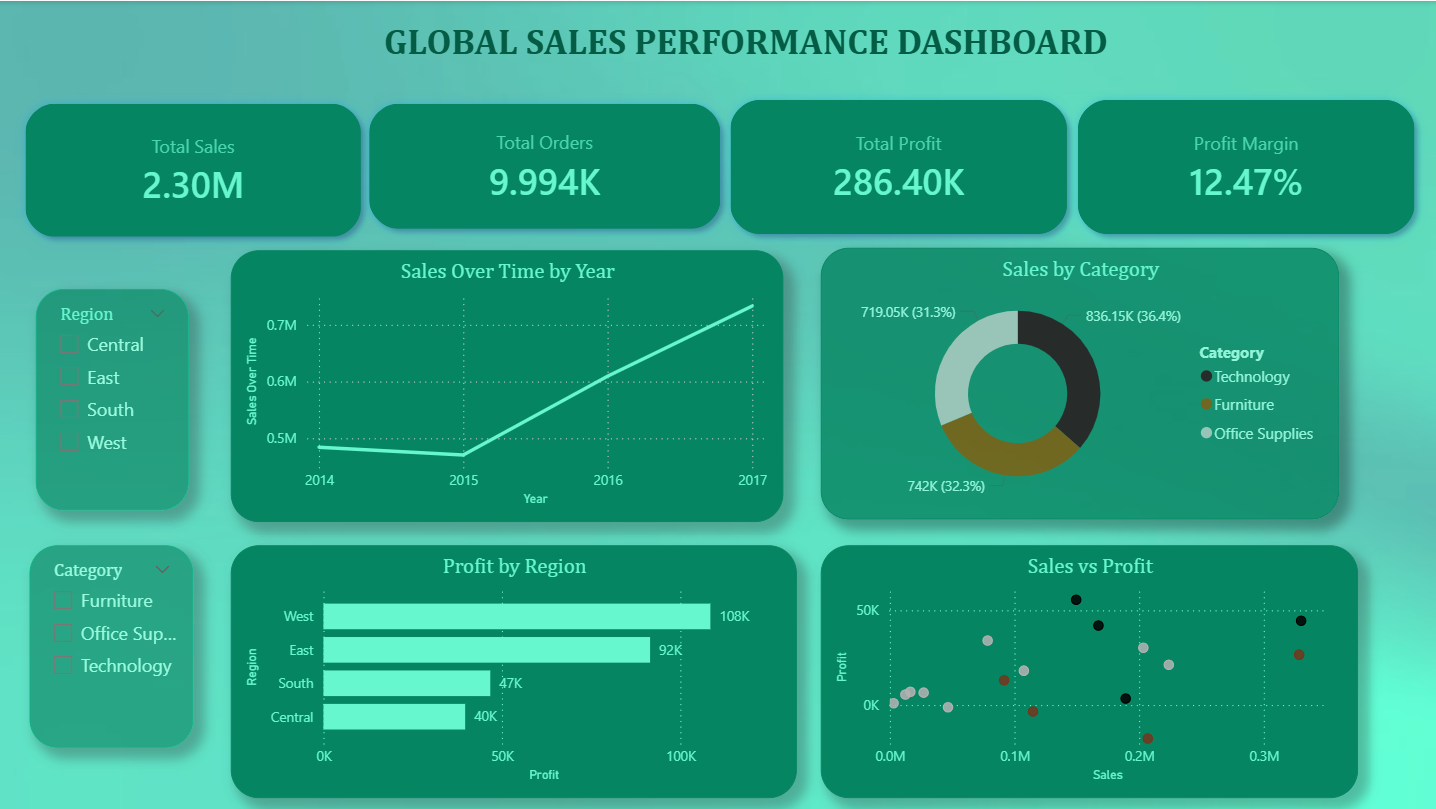

This screenshot's page, from the dashboard's own definition file:
{"tool":"powerbi","page":{"name":"Page 1","canvas":[1280,720],"ordinal":0},"visuals":[{"type":"cardVisual","fields":{"Data":["Sum(Sample - Superstore (2).Sales)"]},"box":[13.3,81.1,322.2,142.2],"z":0},{"type":"cardVisual","fields":{"Data":["CountNonNull(Sample - Superstore (2).Order ID)"]},"box":[318.9,81.1,336.7,135.6],"z":1000},{"type":"cardVisual","fields":{"Data":["Sum(Sample - Superstore (2).Profit)"]},"box":[640,77.8,323.3,143.3],"z":2000},{"type":"lineChart","fields":{"Y":["Sum(Superstore.Sales)"],"Category":["Superstore.Order Date.Variation.Date Hierarchy.Year","Superstore.Order Date.Variation.Date Hierarchy.Quarter","Superstore.Order Date.Variation.Date Hierarchy.Month","Superstore.Order Date.Variation.Date Hierarchy.Day"]},"box":[208.2,226,490.9,241.6],"z":4000},{"type":"donutChart","fields":{"Category":["Superstore.Category"],"Y":["Sum(Superstore.Sales)"]},"box":[732.5,223.7,460.9,241.6],"z":5000},{"type":"clusteredBarChart","fields":{"Category":["Superstore.Region"],"Y":["Sum(Superstore.Profit)"]},"box":[208.2,485.3,503.2,224.9],"z":6000},{"type":"scatterChart","title":"Sales  vs  Profit","fields":{"X":["Sum(Superstore.Sales)"],"Y":["Sum(Superstore.Profit)"],"Series":["Superstore.Category"],"Category":["Superstore.Sub-Category"]},"box":[732.5,485.3,477.6,224.9],"z":7000},{"type":"textbox","box":[128.8,13.8,1073.8,102.5],"z":8000},{"type":"slicer","fields":{"Values":["Superstore.Region"]},"box":[35,258.2,135.1,173.7],"z":9000},{"type":"slicer","fields":{"Values":["Superstore.Category"]},"box":[29,485,146,144.8],"z":10000},{"type":"cardVisual","fields":{"Data":["Superstore.Profit Margin"]},"box":[948.9,77.8,323.3,143.3],"z":11001}]}

Visuals, with their boxes in screenshot pixels (x1, y1, x2, y2), scaled from the page's 1280x720 canvas onto the 1436x809 screenshot:
cardVisual - Sum(Sample - Superstore (2).Sales): Rect(15, 91, 376, 251)
cardVisual - CountNonNull(Sample - Superstore (2).Order ID): Rect(358, 91, 736, 243)
cardVisual - Sum(Sample - Superstore (2).Profit): Rect(718, 87, 1081, 248)
lineChart - Sum(Superstore.Sales) x Superstore.Order Date.Variation.Date Hierarchy.Year: Rect(234, 254, 784, 525)
donutChart - Superstore.Category x Sum(Superstore.Sales): Rect(822, 251, 1339, 523)
clusteredBarChart - Superstore.Region x Sum(Superstore.Profit): Rect(234, 545, 798, 798)
"Sales  vs  Profit" scatterChart: Rect(822, 545, 1358, 798)
textbox: Rect(144, 16, 1349, 131)
slicer - Superstore.Region: Rect(39, 290, 191, 485)
slicer - Superstore.Category: Rect(33, 545, 196, 708)
cardVisual - Superstore.Profit Margin: Rect(1065, 87, 1427, 248)
